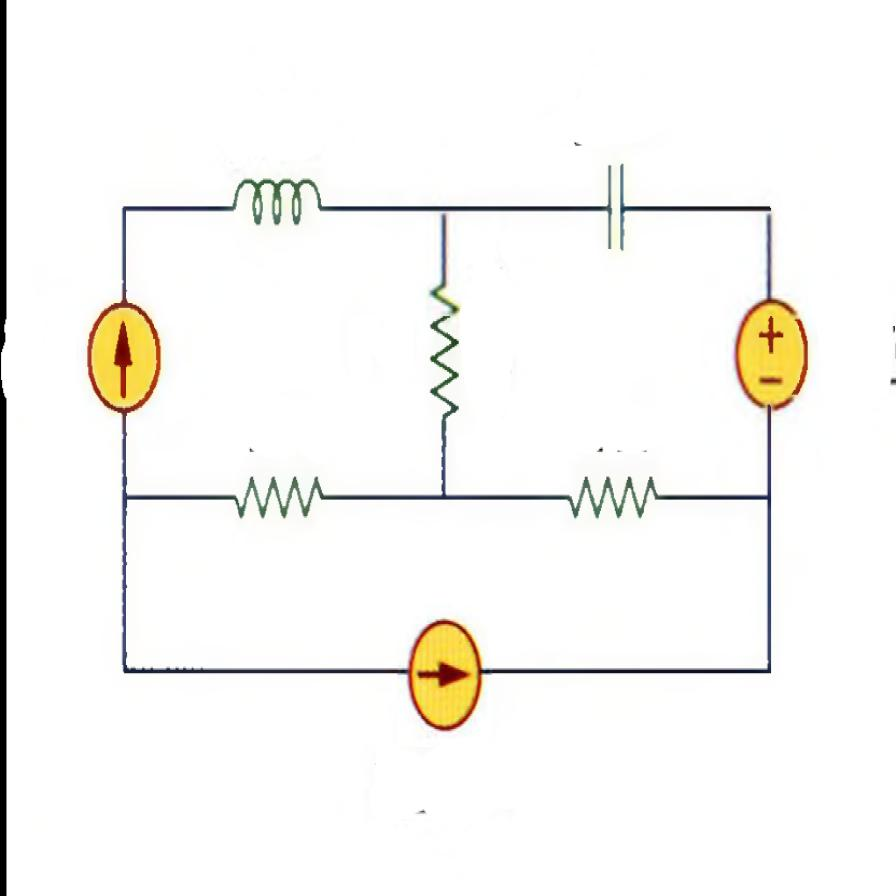C1: (573, 149, 651, 273)
I1: (83, 293, 170, 421)
I2: (392, 598, 488, 748)
L1: (217, 156, 337, 256)
R1: (218, 448, 339, 546), (558, 446, 666, 540)
R2: (414, 273, 475, 432)
V1: (728, 283, 814, 421)
